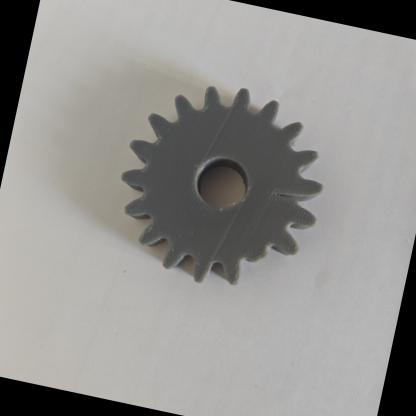defect: (252, 162, 338, 236), (213, 230, 287, 292)
gear: (68, 48, 352, 318)
